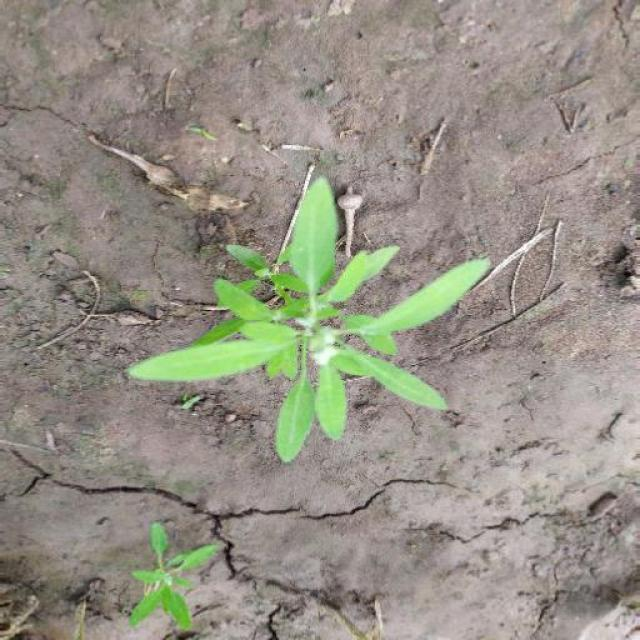weed: (121, 171, 498, 454), (132, 506, 216, 635)
